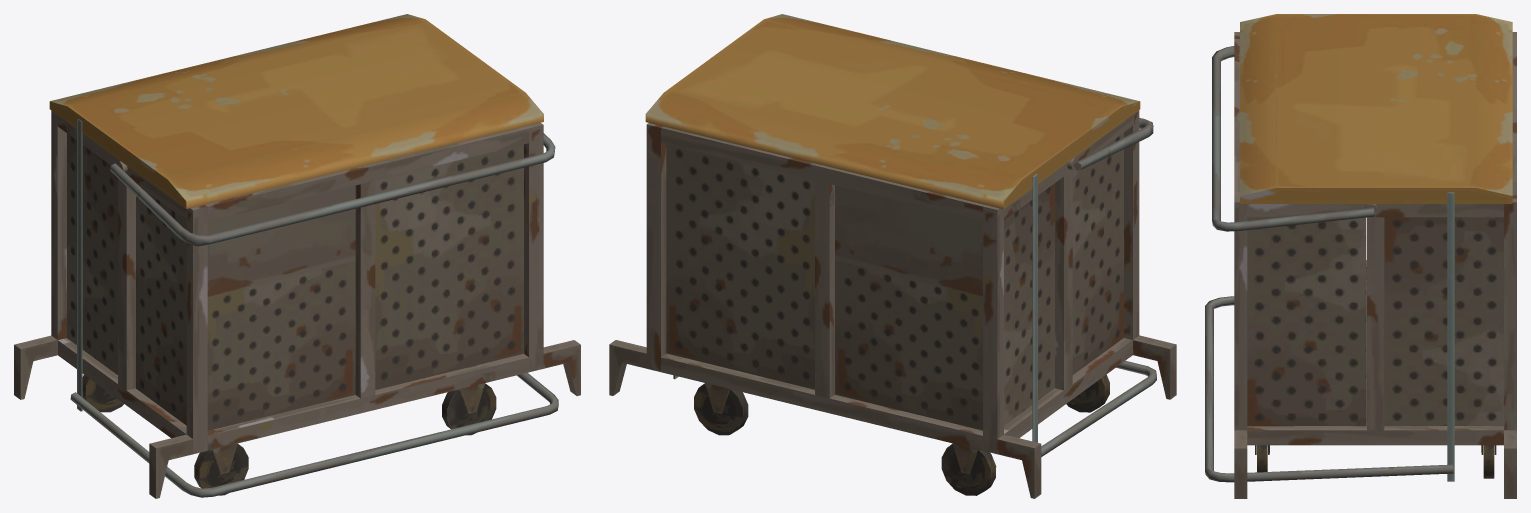
The model's file is Cart.glb.
The picture shows the model from 3 angles, left to right: view 1: azimuth 30°, elevation 25°; view 2: azimuth 150°, elevation 25°; view 3: azimuth 270°, elevation 25°; orthographic projection.
Visible parts, largest first — view 1: Cart_1_UnCovered_LOD0; view 2: Cart_1_UnCovered_LOD0; view 3: Cart_1_UnCovered_LOD0.
Boxes of the visible parts, <box> form: Cart_1_UnCovered_LOD0: <box>14,14,580,498</box>; Cart_1_UnCovered_LOD0: <box>609,14,1176,498</box>; Cart_1_UnCovered_LOD0: <box>1205,14,1516,498</box>.
Size of the model in its own units: 1.13 by 0.8151 by 0.7226.
1 material, 1 textured.
